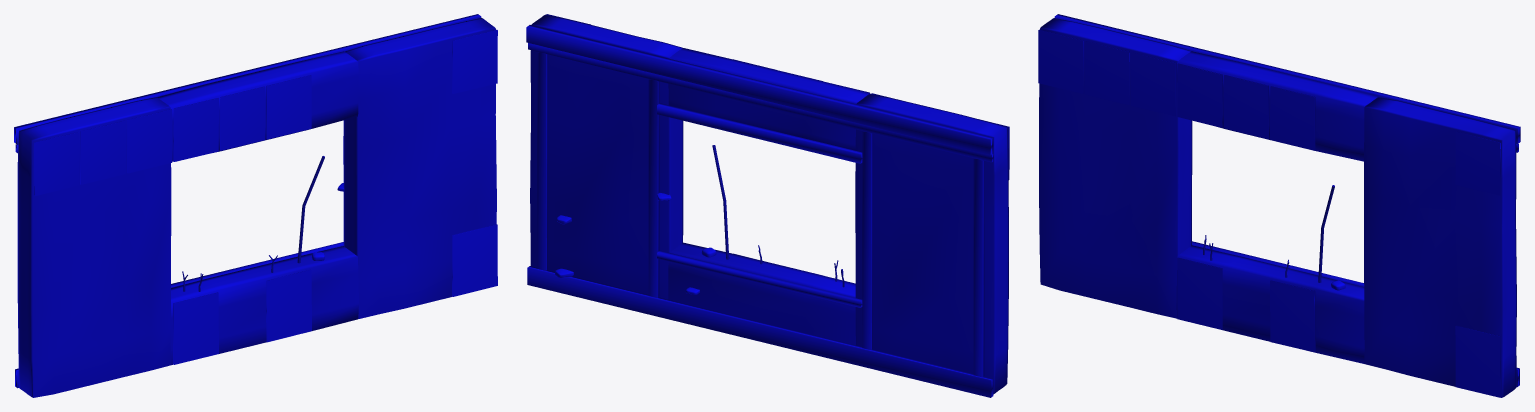
The model's file is tower_bay.glb.
The picture shows the model from 3 angles, left to right: view 1: azimuth 30°, elevation 25°; view 2: azimuth 150°, elevation 25°; view 3: azimuth 330°, elevation 25°; orthographic projection.
Parts seen in each view (by area): view 1: tower_bay; view 2: tower_bay; view 3: tower_bay.
Boxes of the visible parts, x1,y1,x2,y2 form: tower_bay: [14, 14, 497, 397]; tower_bay: [526, 14, 1009, 397]; tower_bay: [1038, 14, 1520, 397].
Size of what is drawn, in the model's own units: 6.02 by 3.21 by 0.503.
